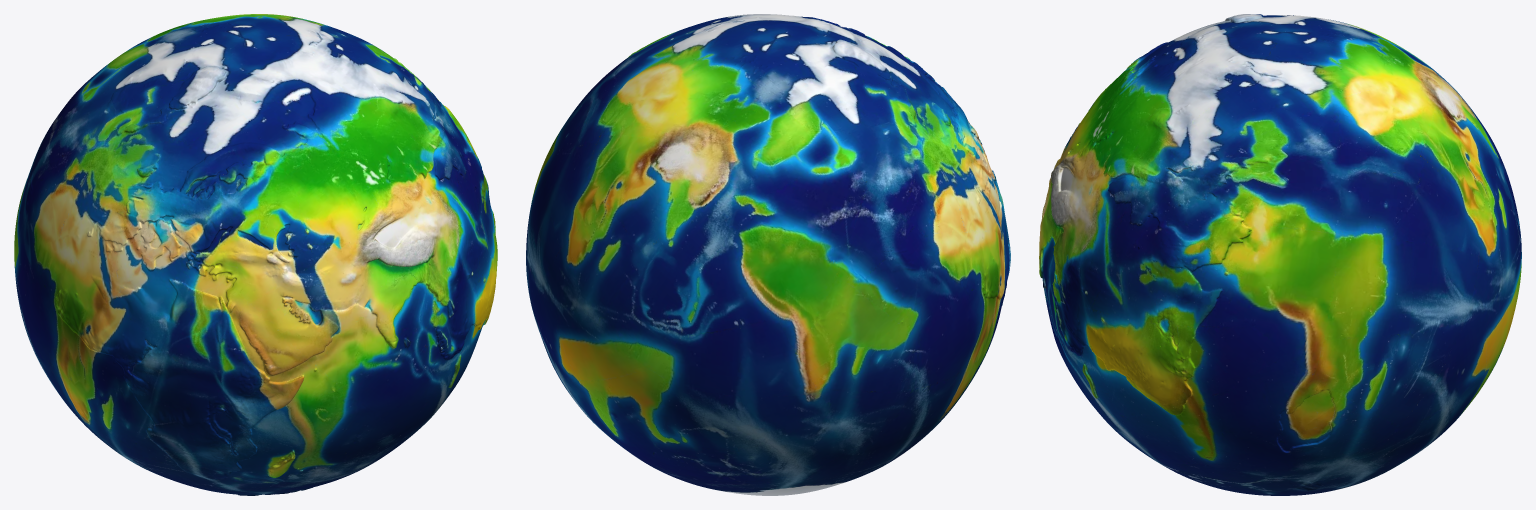
The picture shows the model from 3 angles, left to right: view 1: azimuth 30°, elevation 25°; view 2: azimuth 150°, elevation 25°; view 3: azimuth 270°, elevation 25°; orthographic projection.
Size of the model in its own units: 1.9 by 1.9 by 1.9.
1 material, 1 textured.
